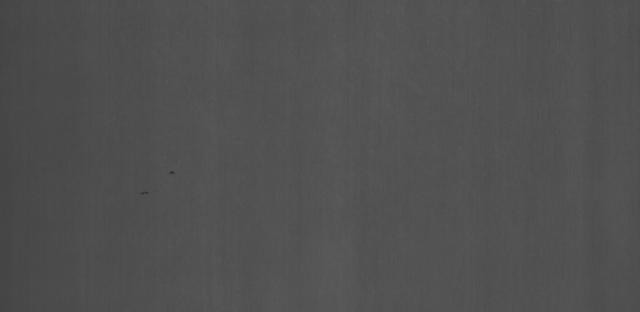inclusion: (159, 164, 184, 182), (140, 186, 154, 202)
